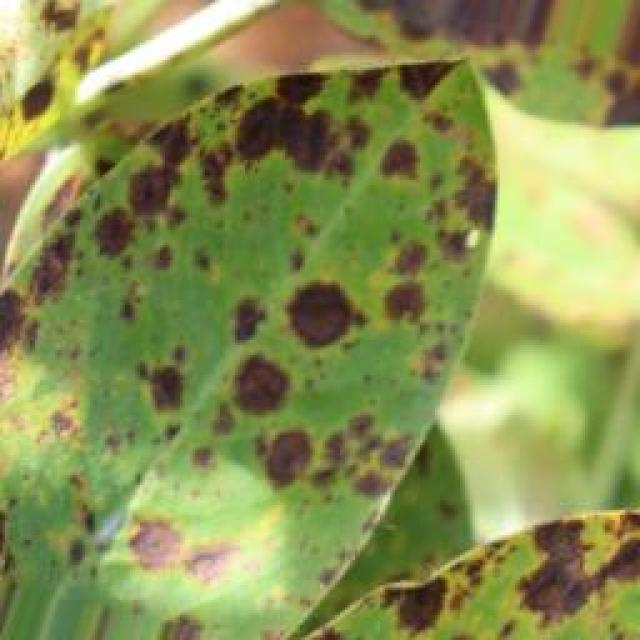Yellowish: (0, 49, 636, 612)
